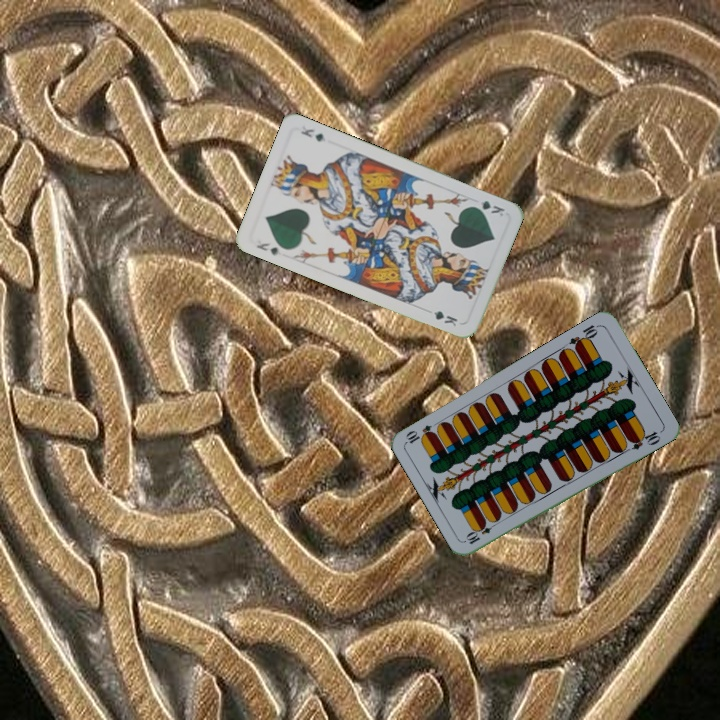E10: (565, 320, 602, 352), (462, 517, 500, 547)
GK: (467, 196, 507, 220), (252, 236, 281, 258)
